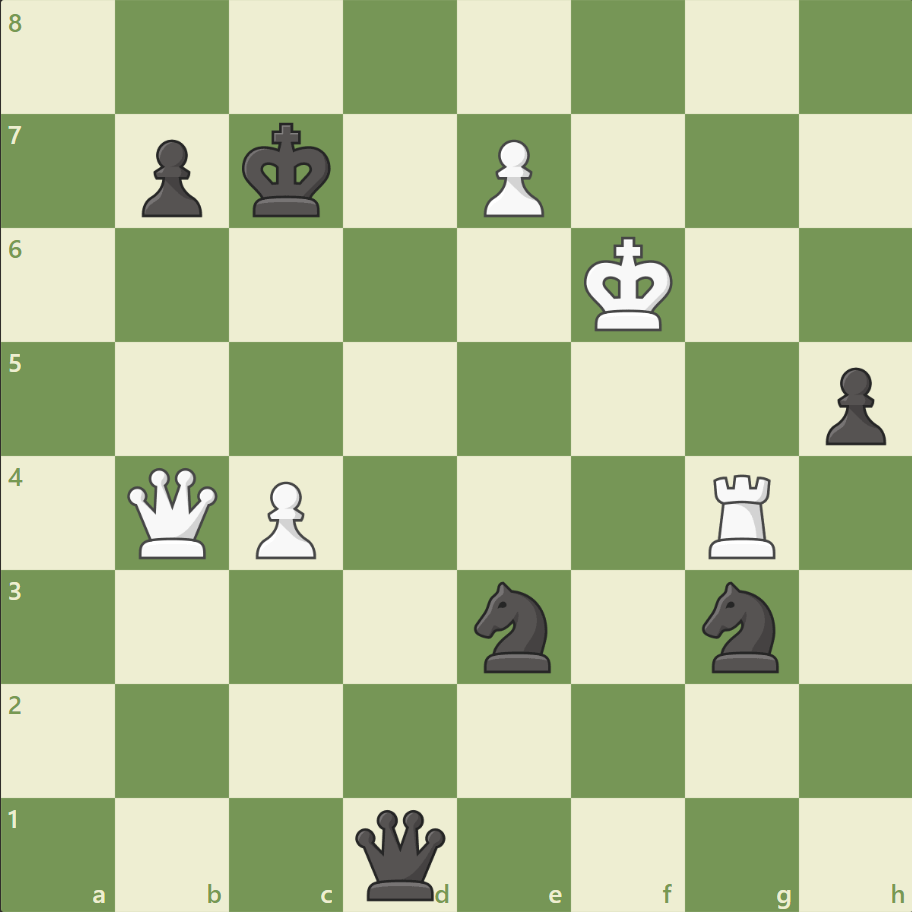K: (579, 231, 679, 339)
P: (474, 132, 549, 223), (247, 473, 322, 564)
Q: (124, 463, 223, 562)
R: (700, 466, 783, 563)
k: (238, 117, 338, 225)
n: (465, 575, 562, 677), (692, 575, 789, 677)
p: (133, 132, 208, 223), (815, 359, 889, 450)
q: (351, 804, 450, 903)
